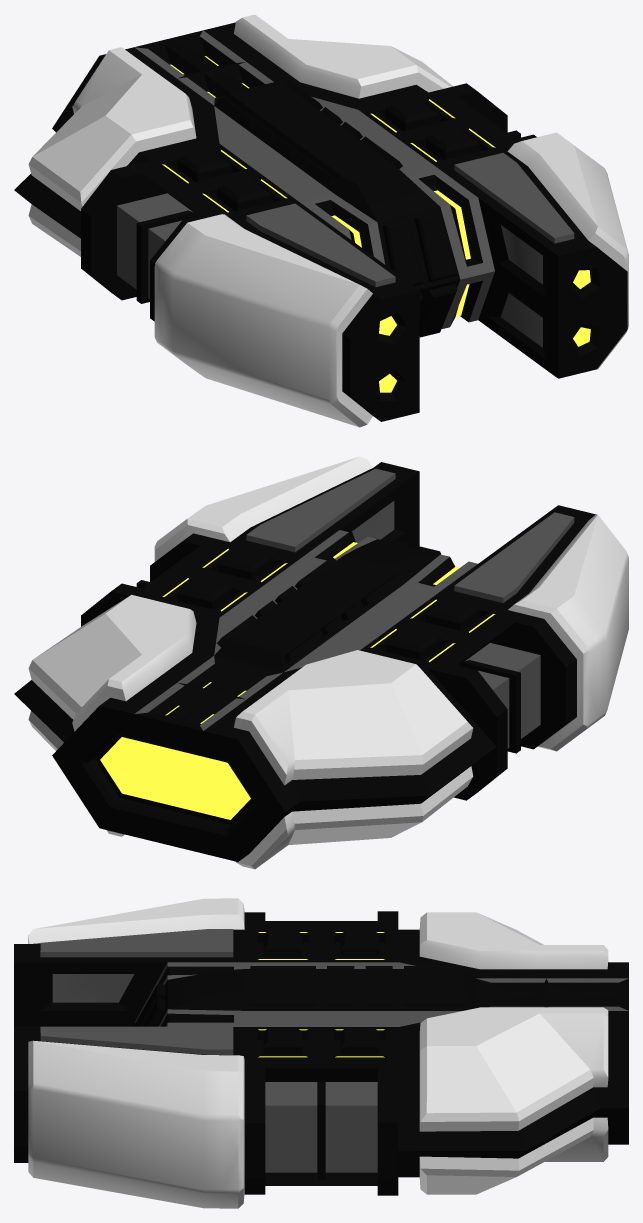
Rendered from 01_ship_medium_jeren.glb.
The picture shows the model from 3 angles, top to bottom: view 1: azimuth 30°, elevation 25°; view 2: azimuth 150°, elevation 25°; view 3: azimuth 270°, elevation 25°; orthographic projection. The views are drawn at different scales.
Parts seen in each view (by area): view 1: 01_ship_medium_jeren; view 2: 01_ship_medium_jeren; view 3: 01_ship_medium_jeren.
Part boxes in pixels (x1=…): 01_ship_medium_jeren: x1=14, y1=14, x2=628, y2=427; 01_ship_medium_jeren: x1=14, y1=456, x2=628, y2=869; 01_ship_medium_jeren: x1=14, y1=898, x2=628, y2=1208.
Size of the model in its own units: 0.7835 by 0.2667 by 1.
